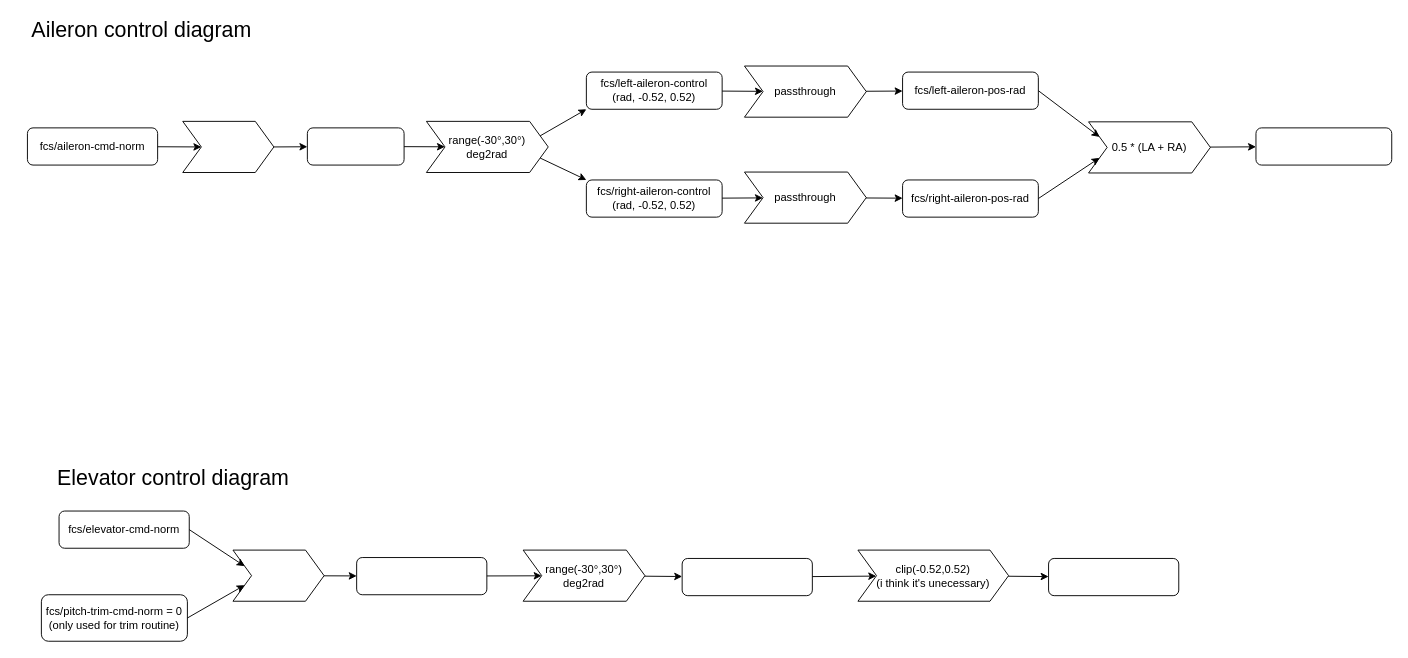
Some shapes in this 1408 by 658 pixel diagram are drawn without their labels. Each missing label, with the centre of its shape:
"clip(-1,1)" goes at point (228, 146).
"fcs/effective-aileron-pos (rad, -1.04, 1.04)" goes at point (1323, 146).
"fcs/elevator-control (rad, -0.52, 0.52)" goes at point (746, 577).
"fcs/elevator-pos-rad (rad, -0.52, 0.52)" goes at point (1113, 577).
"fcs/pitch-trim-sum" goes at point (421, 576).
"fcs/roll-sum" goes at point (355, 146).
"sum clip(-1,1)" goes at point (278, 575).
